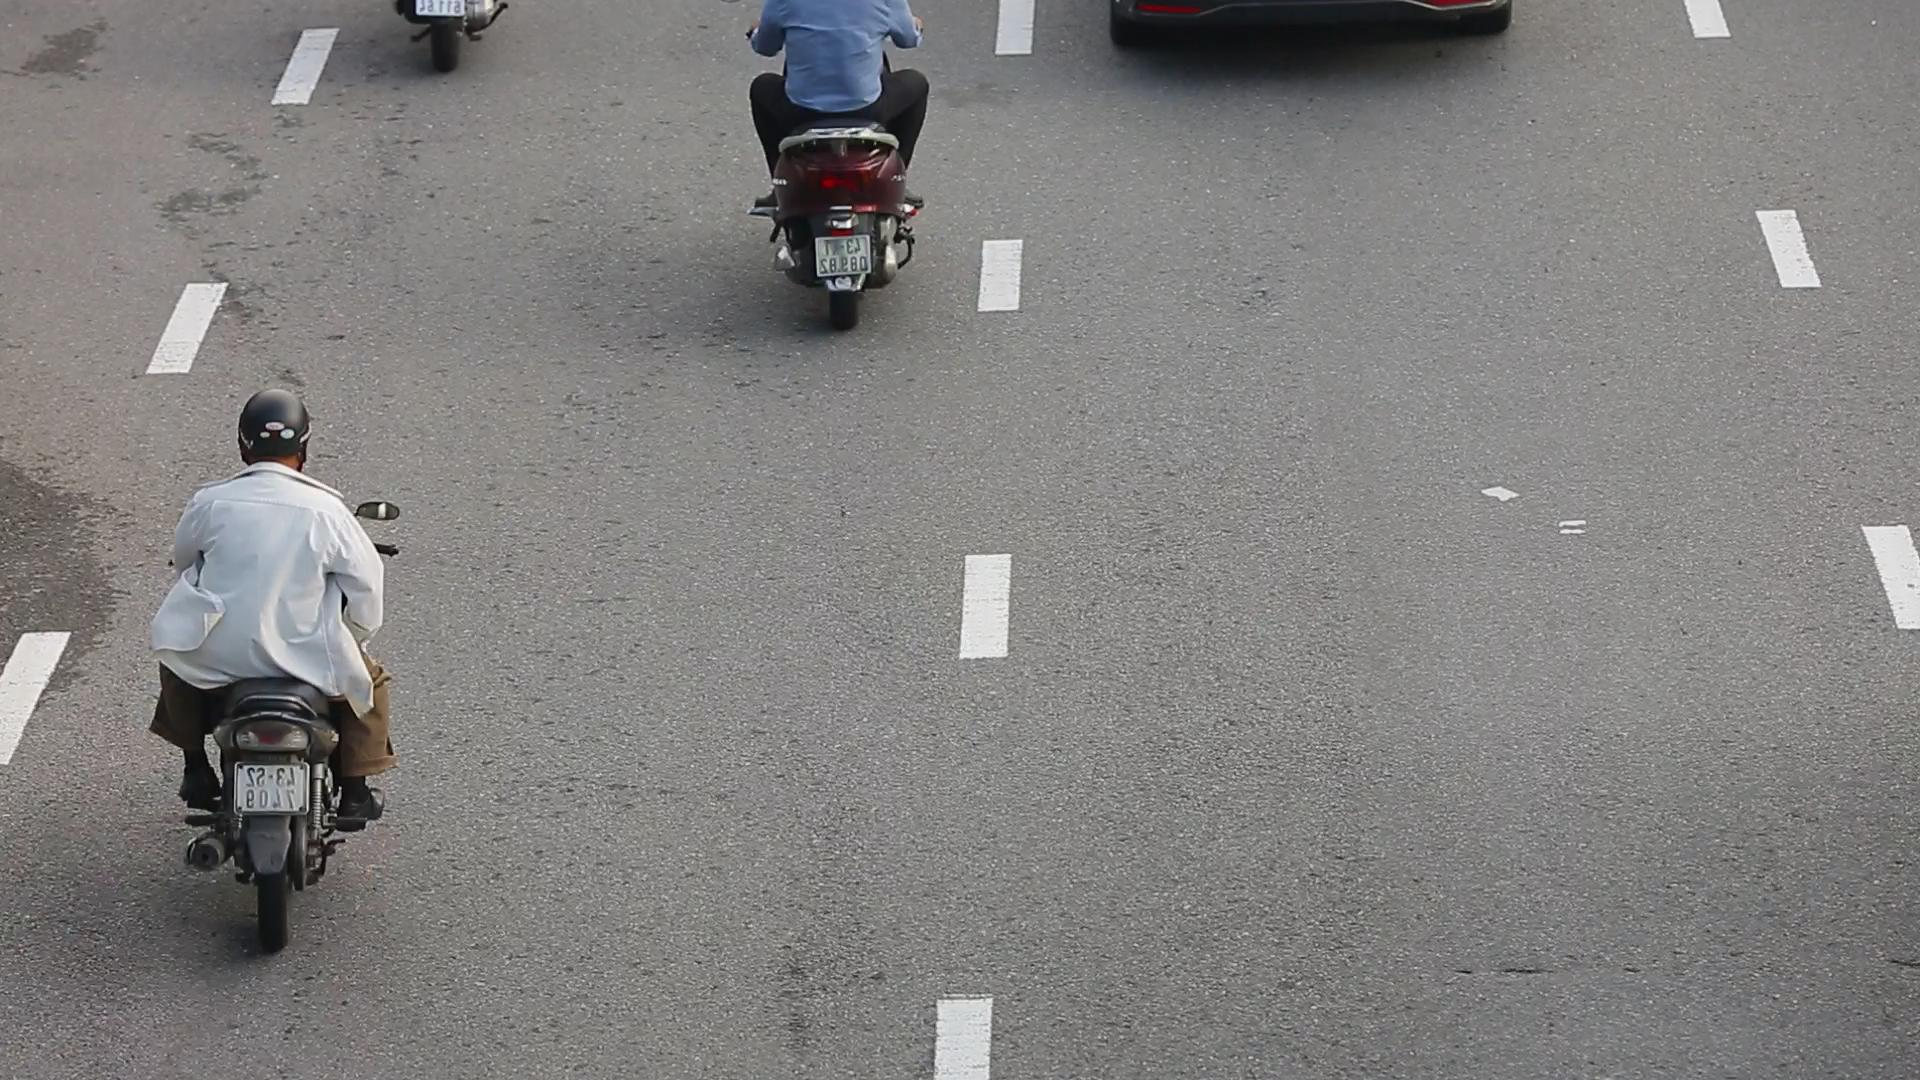motobike: (131, 378, 410, 994)
